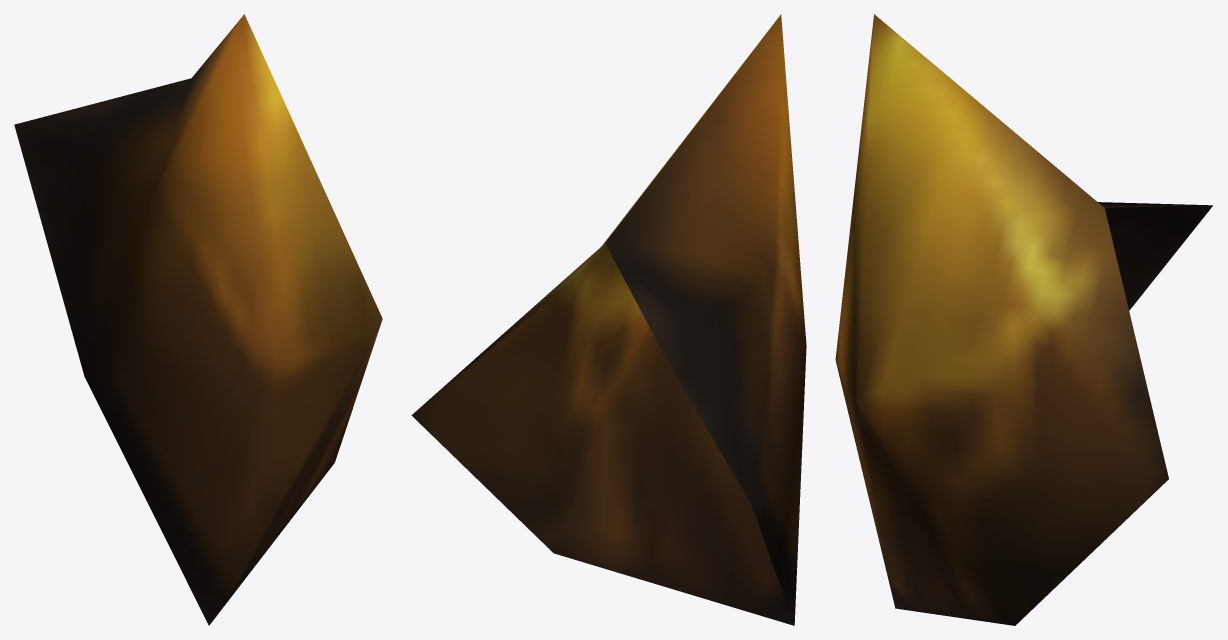
Rendered from Mine_jinkuai04.FBX.
3 views of the same model, side by side, from view 1: azimuth 30°, elevation 25°; view 2: azimuth 150°, elevation 25°; view 3: azimuth 270°, elevation 25° (orthographic). The views are drawn at different scales.
Visible parts, largest first — view 1: jinkuai04; view 2: jinkuai04; view 3: jinkuai04.
Part boxes in pixels (x1=…): jinkuai04: x1=14, y1=14, x2=382, y2=625; jinkuai04: x1=411, y1=14, x2=806, y2=625; jinkuai04: x1=835, y1=14, x2=1212, y2=625.
Size of the model in its own units: 20.94 by 41.7 by 23.56.
